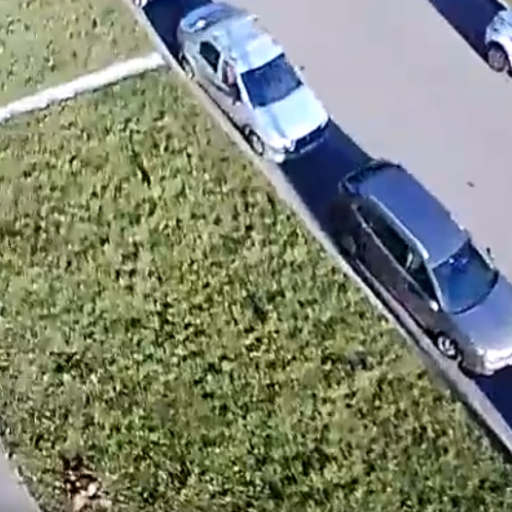Car: (338, 156, 511, 382), (176, 0, 330, 163)
